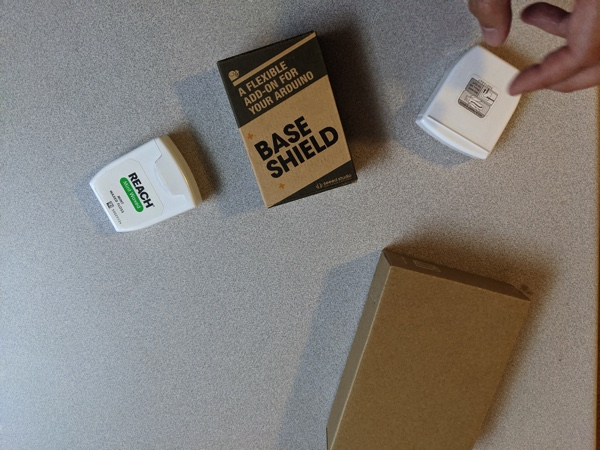cardboard: (315, 242, 542, 450), (207, 22, 367, 217)
plastic: (407, 35, 539, 180), (71, 127, 218, 248)
